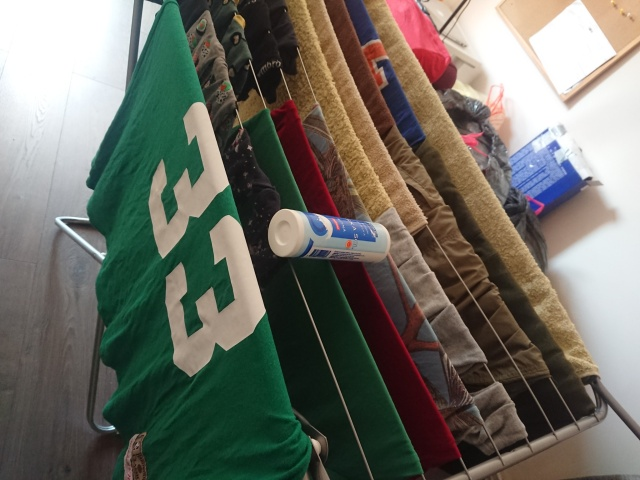Solana Pag Fine Sea Salt 250g: (266, 207, 392, 265)
